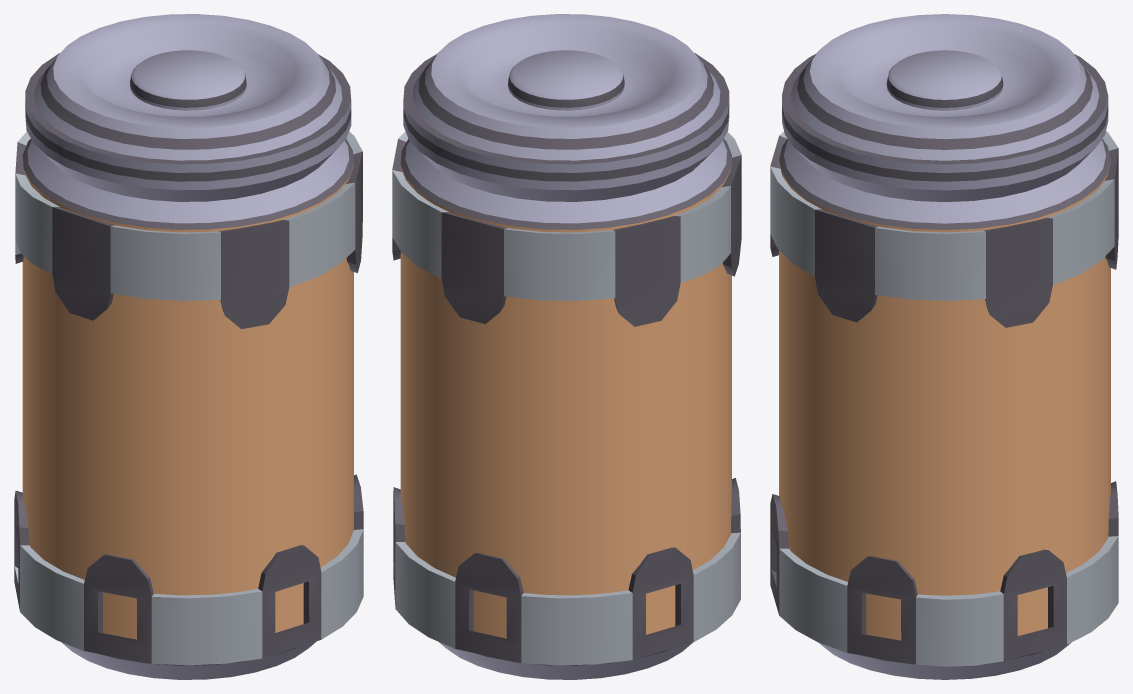
Rendered from battey_cell.fbx.
3 renders of one model, left to right at view 1: azimuth 30°, elevation 25°; view 2: azimuth 150°, elevation 25°; view 3: azimuth 270°, elevation 25°, orthographic.
Parts seen in each view (by area): view 1: Cylinder; view 2: Cylinder; view 3: Cylinder.
Part boxes in pixels (bbox=[...]): Cylinder: bbox=[14, 14, 363, 679]; Cylinder: bbox=[392, 14, 741, 679]; Cylinder: bbox=[770, 14, 1118, 679].
Bounding box in the file's own units: 75.02 × 128 × 73.15.
